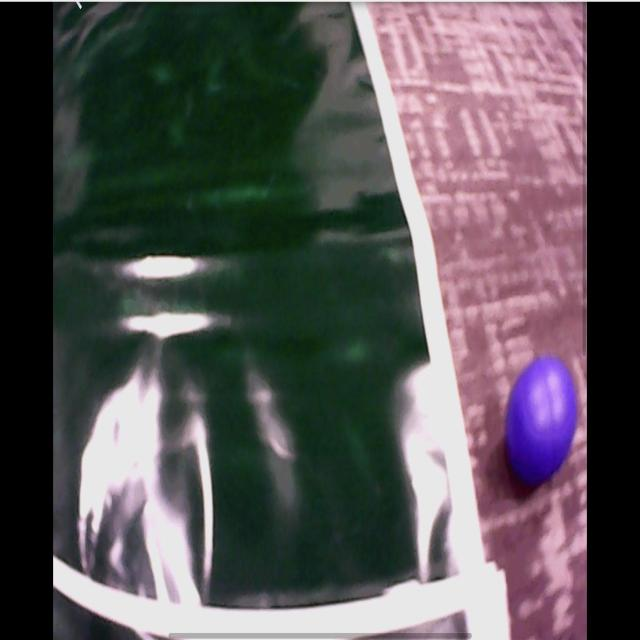ball: (506, 355, 578, 477)
